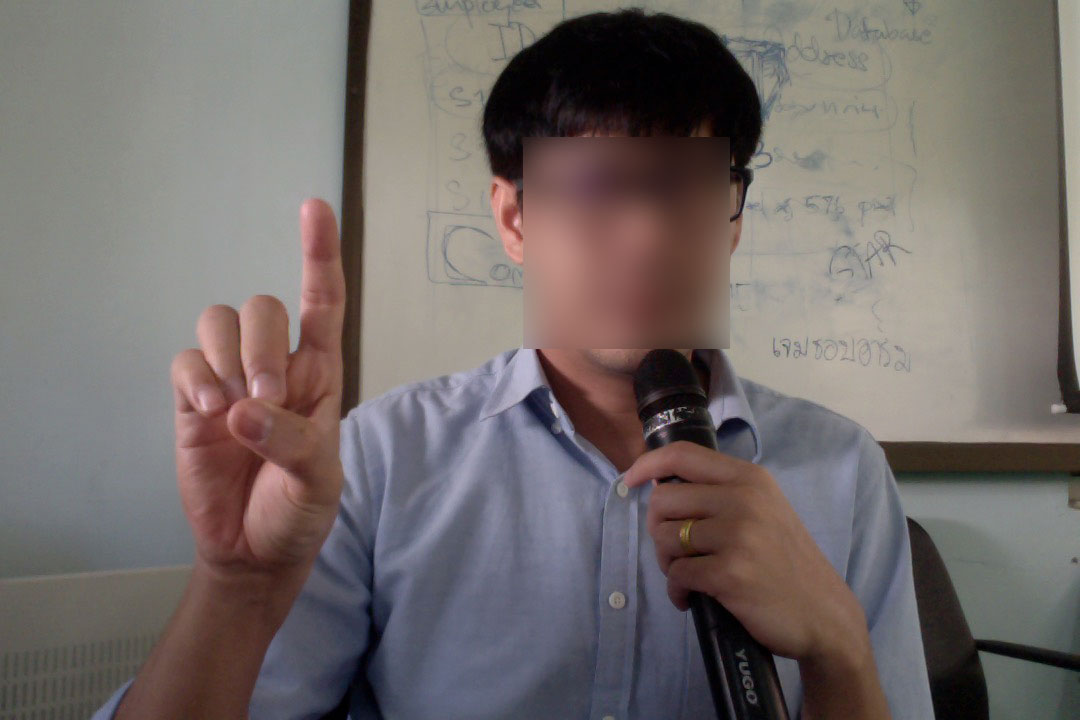dor: (158, 188, 360, 597)
